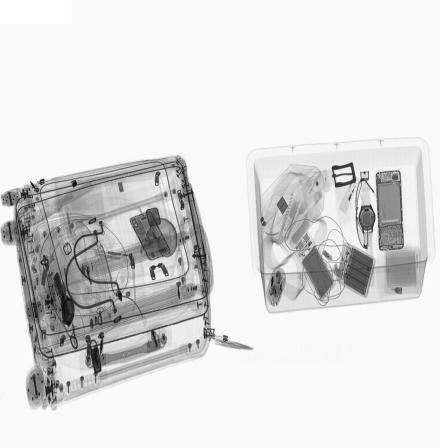Lighter: (339, 174, 363, 213)
